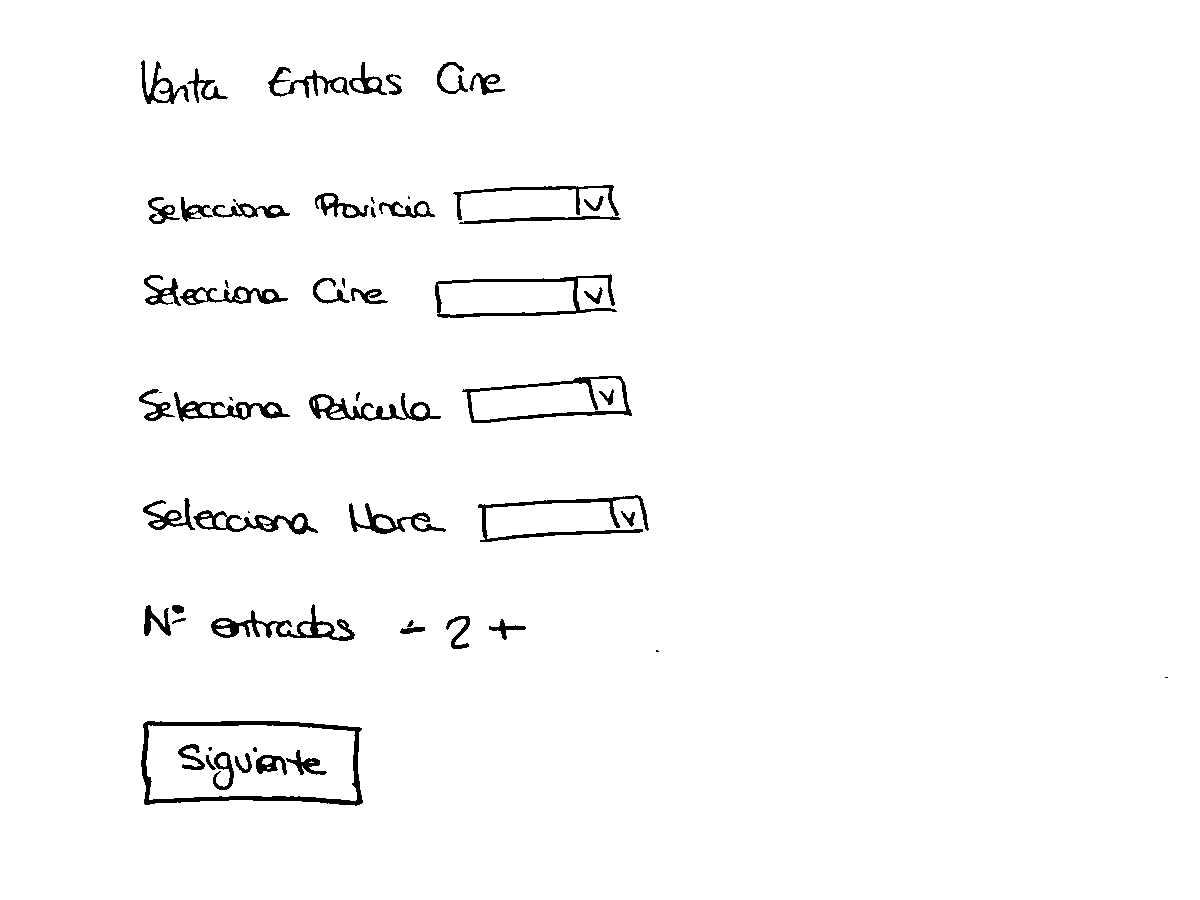Button: (136, 716, 371, 812)
Select: (461, 370, 635, 425), (476, 492, 651, 544), (430, 272, 617, 319), (452, 179, 619, 228)
